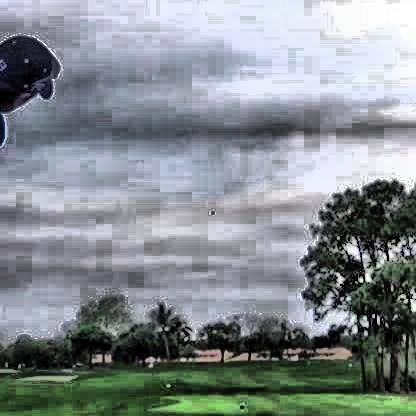golfball: (206, 207, 213, 213)
